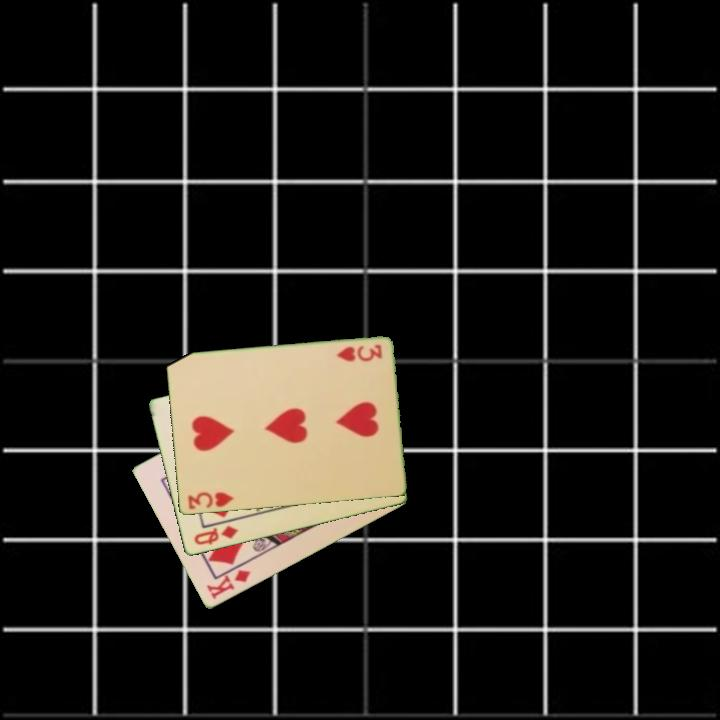3h: (184, 489, 236, 513), (333, 341, 384, 365)
Kd: (203, 560, 254, 602)
Qd: (190, 522, 241, 548)
